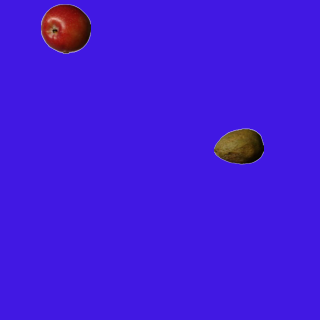Apple Braeburn: (40, 3, 90, 53)
Papaya: (213, 121, 263, 171)
